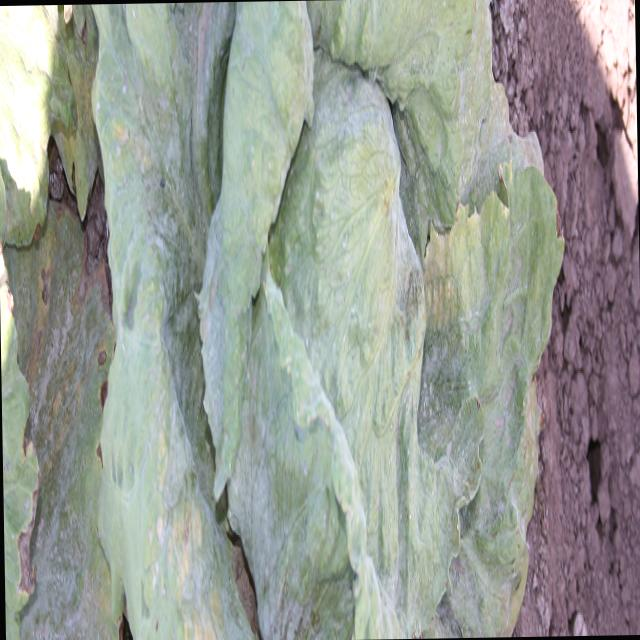Powdery_mildew_on_lettuce: (104, 5, 498, 614)
